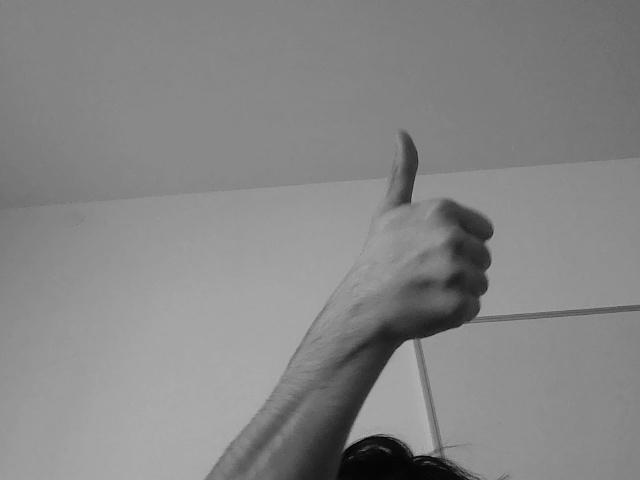good: (317, 115, 504, 363)
